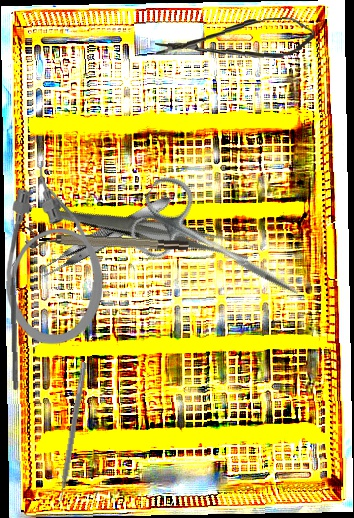Cannula: (4, 160, 106, 346)
Dressing Forceps: (50, 149, 257, 310)
Fixation Ring: (24, 226, 190, 261)
Iris Scissors: (121, 169, 320, 328)
Micro Scissor: (154, 15, 316, 65)
Spatula Surgical: (51, 360, 88, 509), (8, 257, 24, 390)
Tissue Forceps: (36, 190, 176, 283)
